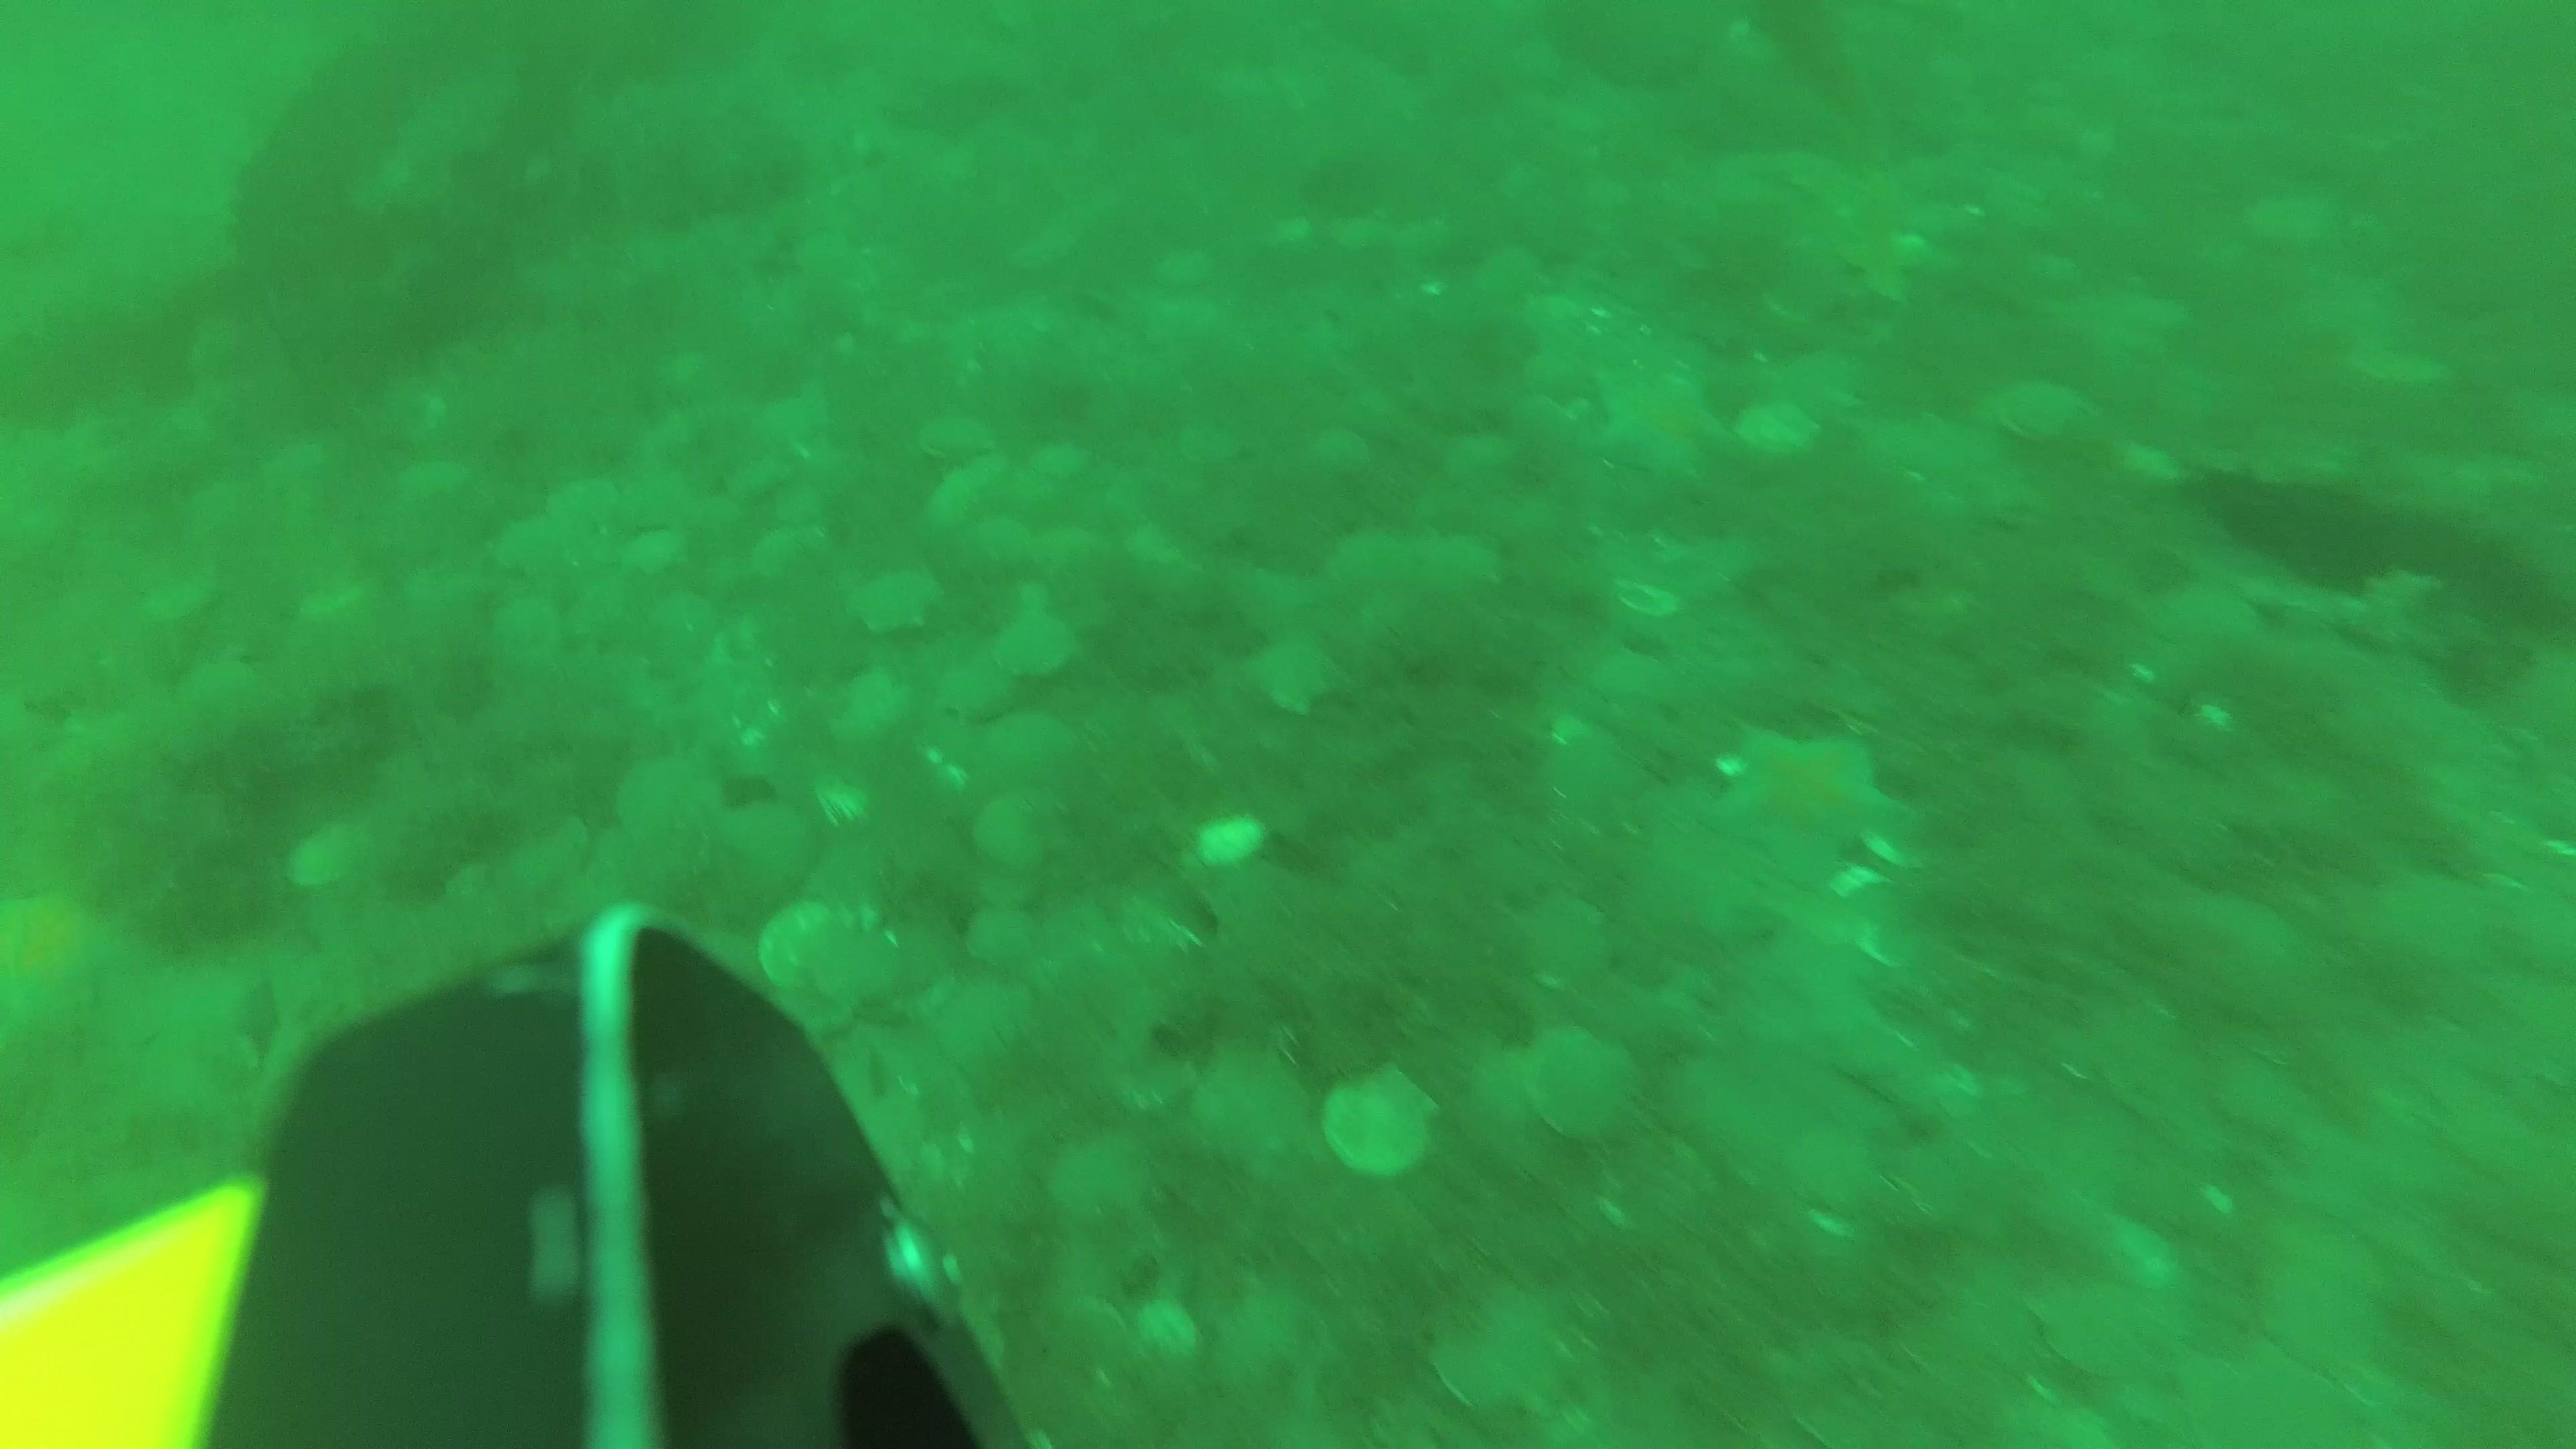scallop: (1421, 1276, 1580, 1421), (2017, 1260, 2167, 1384), (1320, 1058, 1453, 1182), (1215, 1284, 1336, 1421), (1182, 1046, 1311, 1166), (1525, 1021, 1644, 1150), (750, 892, 899, 991), (1035, 1127, 1157, 1228), (1507, 885, 1612, 998), (610, 752, 725, 853), (492, 800, 596, 902), (717, 794, 812, 890), (1238, 635, 1346, 718), (1989, 377, 2109, 451), (968, 789, 1067, 872), (272, 821, 377, 897), (824, 665, 916, 748), (2240, 186, 2341, 258), (2337, 331, 2450, 395), (849, 564, 948, 637), (996, 609, 1083, 681), (957, 902, 1042, 975), (490, 591, 563, 674), (1329, 522, 1410, 593), (292, 566, 384, 628), (982, 706, 1079, 763), (1737, 398, 1822, 462), (648, 591, 725, 660), (932, 660, 1016, 724), (494, 508, 570, 577), (140, 571, 223, 633), (541, 469, 621, 533), (754, 524, 835, 586), (179, 655, 265, 711), (1412, 538, 1507, 589), (741, 396, 824, 453), (1306, 423, 1373, 488), (1440, 430, 1513, 488), (396, 456, 472, 511), (1030, 525, 1115, 573), (722, 449, 798, 502), (398, 556, 474, 609), (1198, 805, 1263, 865), (1168, 419, 1247, 467), (961, 511, 1030, 566), (911, 414, 989, 462), (1154, 241, 1219, 295), (621, 527, 695, 575), (1474, 248, 1539, 301), (1615, 571, 1679, 623), (1003, 235, 1079, 276), (1024, 437, 1092, 483), (925, 474, 975, 531)
starfish: (1711, 715, 1914, 888), (4, 876, 150, 1049), (1585, 352, 1730, 483)
